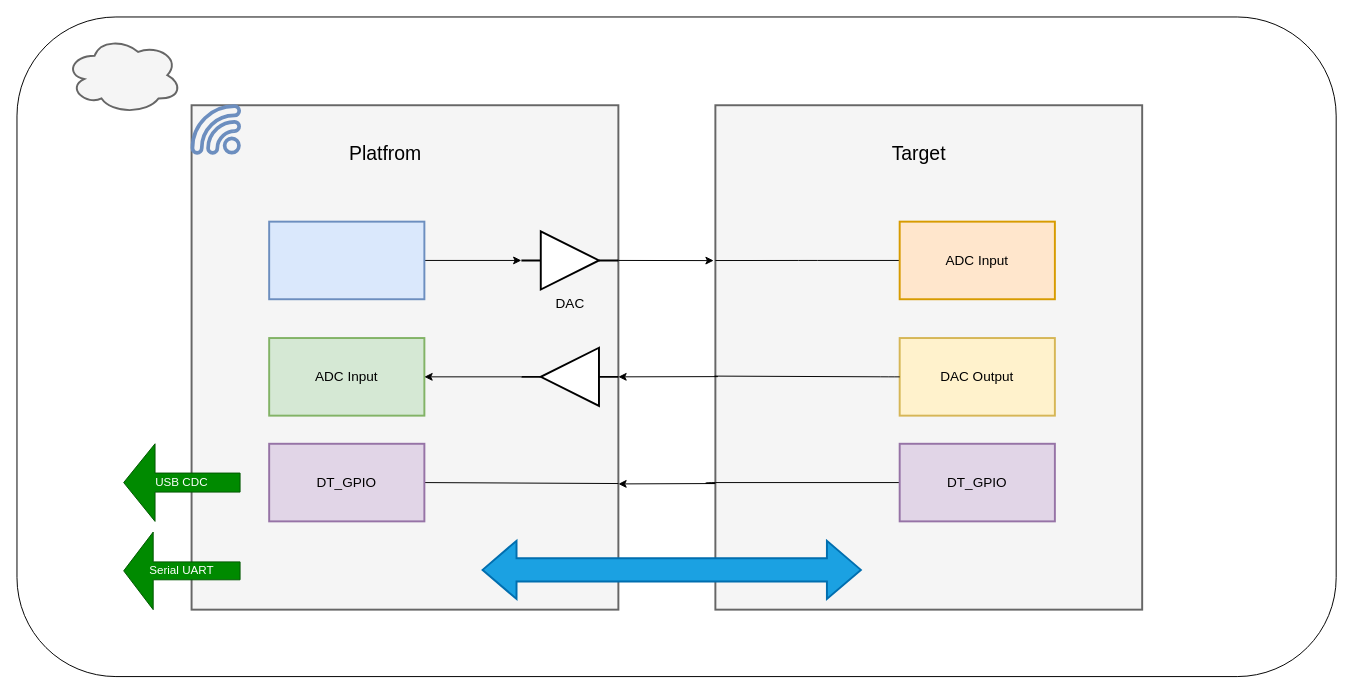
Some shapes in this 1353 by 694 pixel diagram are drawn without their labels. The centre of each missing label's shape, as x and y in pixels:
"ADC" goes at pixel 569 376.
"Inter-Com UART" goes at pixel 671 569.
"Signal Generator" goes at pixel 346 260.
"UDP Socket" goes at pixel 123 74.
